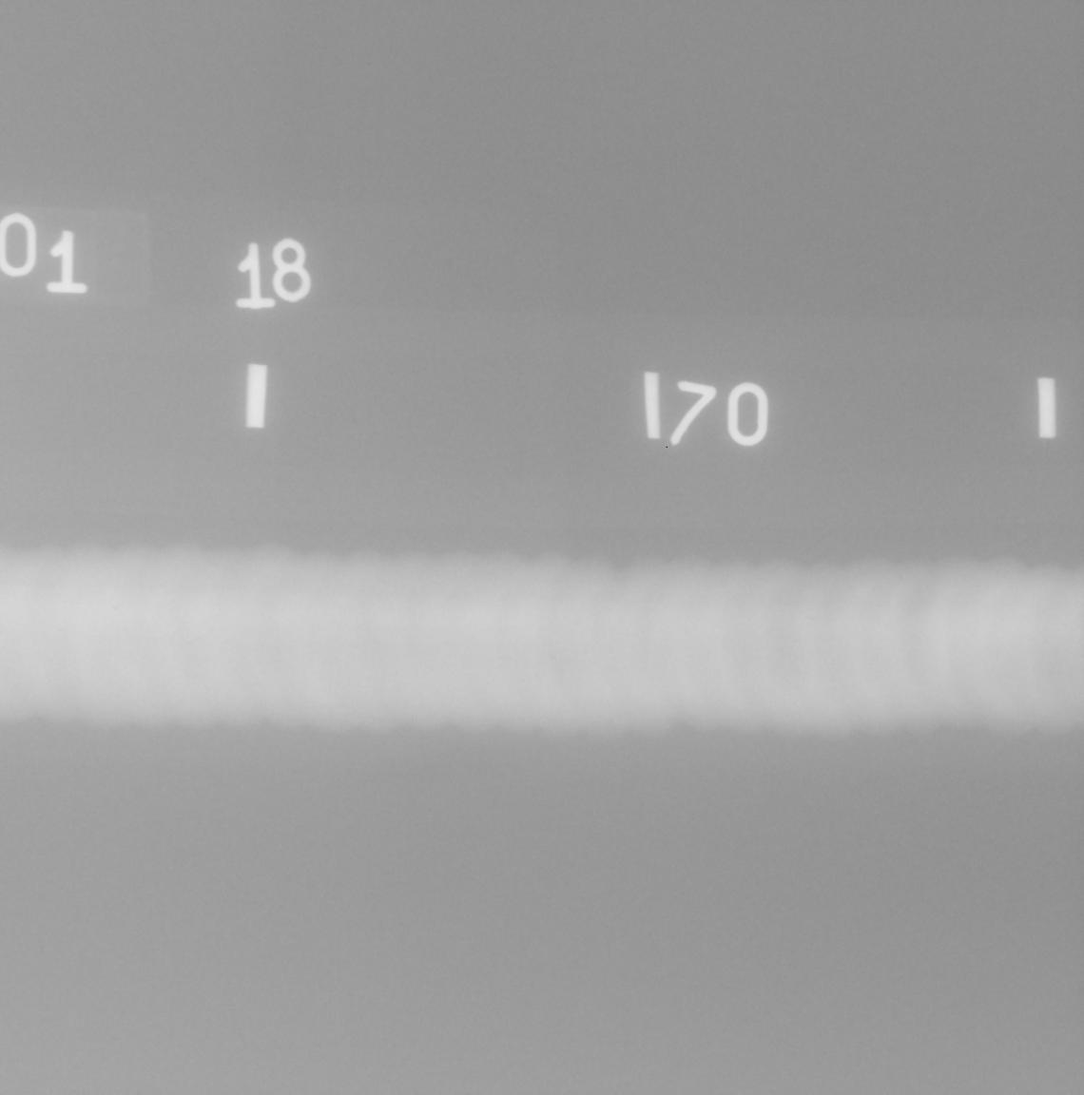Pore/Porosity: (115, 604, 123, 611), (549, 655, 556, 658)
